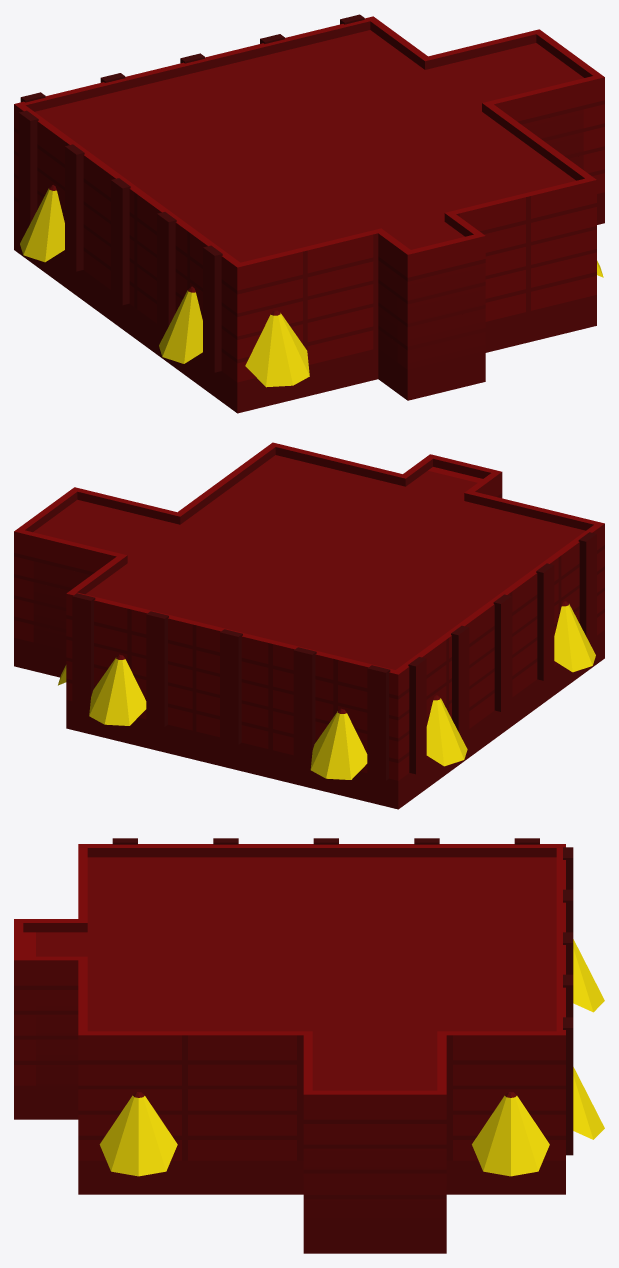
Rendered from buildings-industrial-datacenter_v1.fbx.
3 renders of one model, top to bottom at view 1: azimuth 30°, elevation 25°; view 2: azimuth 150°, elevation 25°; view 3: azimuth 270°, elevation 25°, orthographic. The views are drawn at different scales.
Parts seen in each view (by area): view 1: DataCenter_base, DataCenter_windowRefl, DataCenter_light; view 2: DataCenter_base, DataCenter_light, DataCenter_windowRefl; view 3: DataCenter_base, DataCenter_windowRefl, DataCenter_light.
Boxes of the visible parts, x1=… form: DataCenter_base: x1=14, y1=14, x2=604, y2=413; DataCenter_windowRefl: x1=378, y1=109, x2=583, y2=369; DataCenter_light: x1=20, y1=188, x2=603, y2=387; DataCenter_base: x1=14, y1=442, x2=604, y2=809; DataCenter_light: x1=58, y1=604, x2=595, y2=779; DataCenter_windowRefl: x1=33, y1=561, x2=90, y2=650; DataCenter_base: x1=14, y1=838, x2=573, y2=1253; DataCenter_windowRefl: x1=36, y1=990, x2=446, y2=1219; DataCenter_light: x1=99, y1=939, x2=604, y2=1176.
Bounding box in the file's own units: 50.3 × 14.16 × 47.05.
